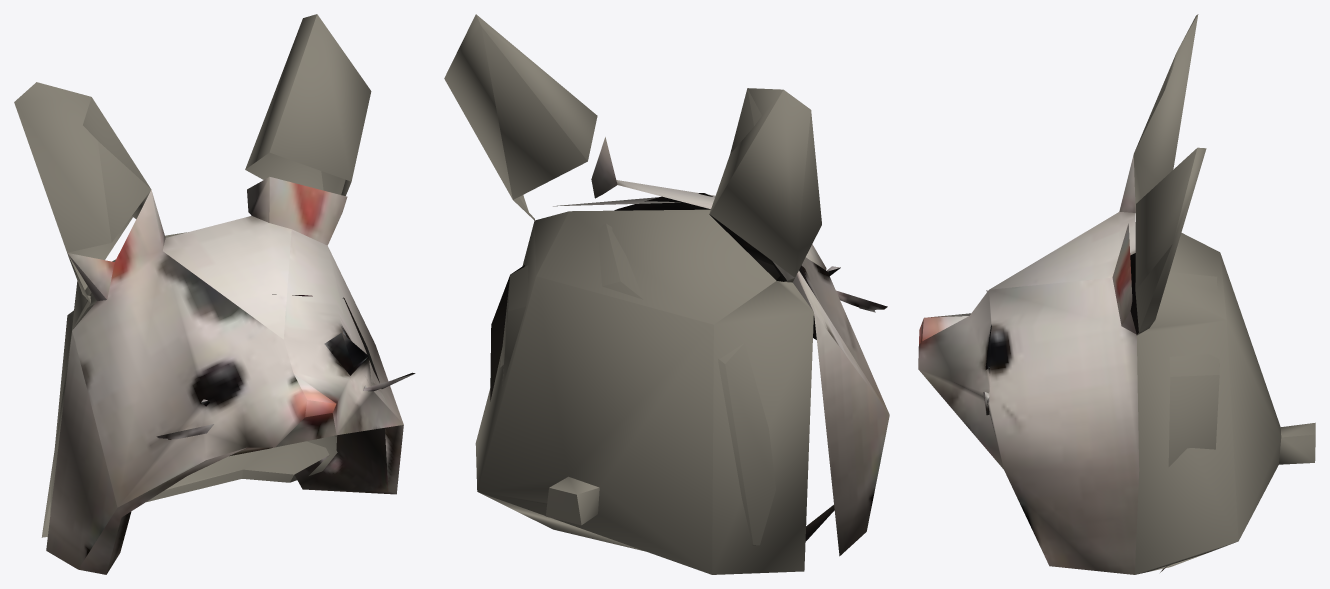
The model's file is rabbit.glb.
3 renders of one model, left to right at view 1: azimuth 30°, elevation 25°; view 2: azimuth 150°, elevation 25°; view 3: azimuth 270°, elevation 25°, orthographic. The views are drawn at different scales.
Visible parts, largest first — view 1: geometry_0; view 2: geometry_0; view 3: geometry_0.
Boxes of the visible parts, x1,y1,x2,y2 form: geometry_0: (14,14,415,574); geometry_0: (444,14,889,574); geometry_0: (918,14,1315,574).
Bounding box in the file's own units: 0.4415 × 0.5544 × 0.4499.
Materials: 2 (1 with a texture image).
